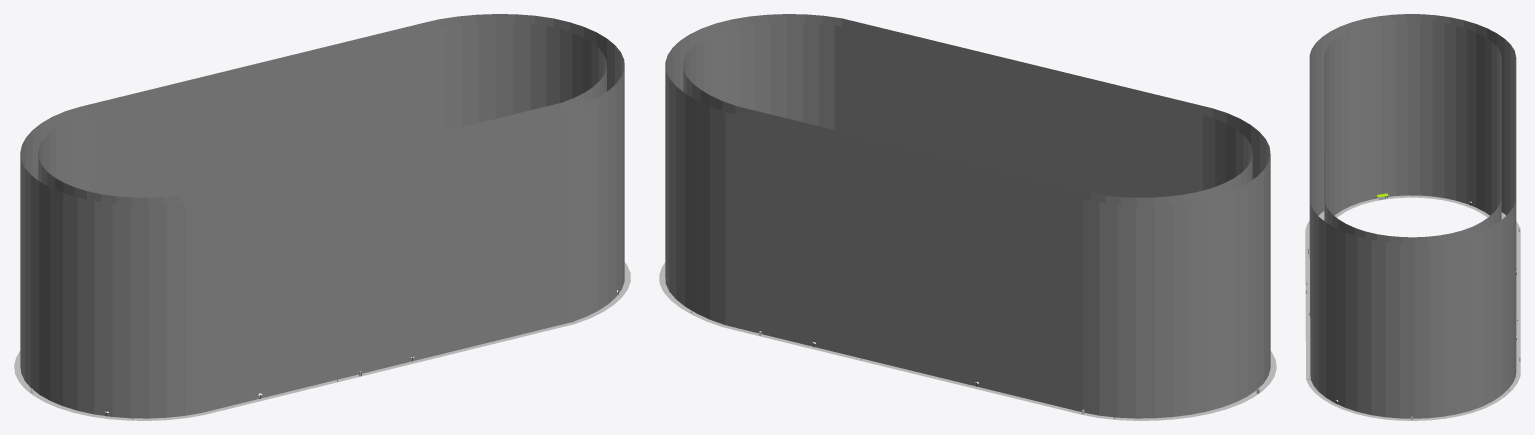
File: FBX_duong_dua_tokyo.FBX
The picture shows the model from 3 angles, left to right: view 1: azimuth 30°, elevation 25°; view 2: azimuth 150°, elevation 25°; view 3: azimuth 270°, elevation 25°; orthographic projection. The views are drawn at different scales.
Visible parts, largest first — view 1: Bound, Via_he; view 2: Bound, Via_he; view 3: Bound, Via_he.
Part boxes in pixels (x1=…): Bound: x1=20, y1=14, x2=624, y2=418; Via_he: x1=14, y1=262, x2=630, y2=420; Bound: x1=665, y1=14, x2=1270, y2=418; Via_he: x1=659, y1=262, x2=1276, y2=420; Bound: x1=1309, y1=14, x2=1516, y2=418; Via_he: x1=1305, y1=195, x2=1520, y2=420.
Bounding box in the file's own units: 479 × 169 × 187.
